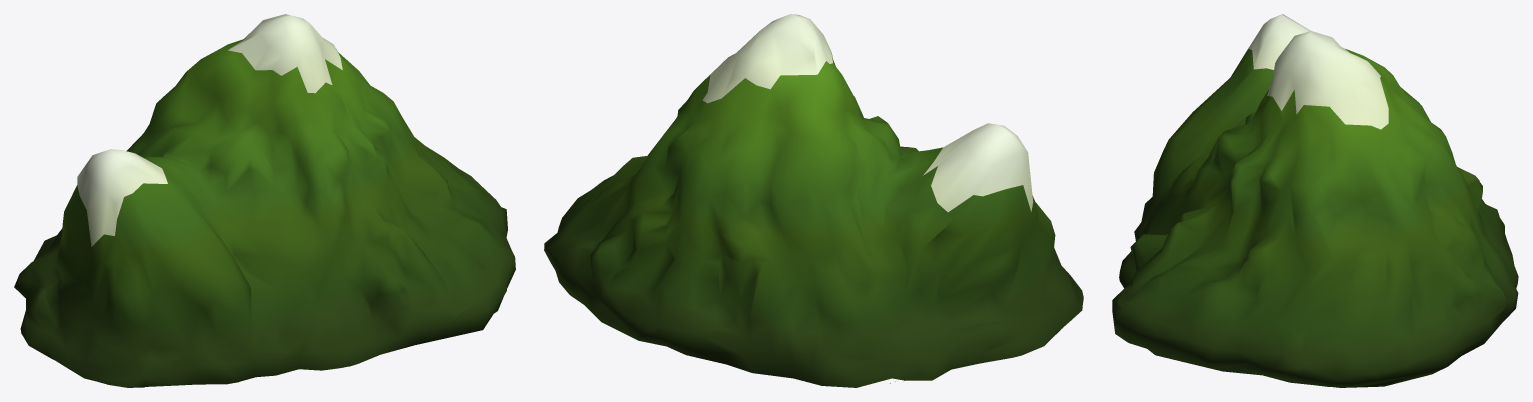
Rendered from Mountain_1.fbx.
The picture shows the model from 3 angles, left to right: view 1: azimuth 30°, elevation 25°; view 2: azimuth 150°, elevation 25°; view 3: azimuth 270°, elevation 25°; orthographic projection. The views are drawn at different scales.
Visible parts, largest first — view 1: Mountain_1; view 2: Mountain_1; view 3: Mountain_1.
Boxes of the visible parts, bbox=[...] form: Mountain_1: bbox=[14, 14, 515, 387]; Mountain_1: bbox=[544, 14, 1083, 387]; Mountain_1: bbox=[1112, 14, 1518, 387].
Size of the model in its own units: 3294 by 1801 by 2529.
